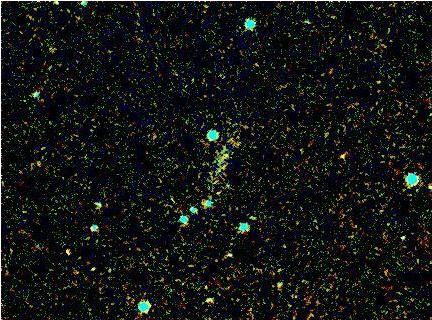star: (50, 238, 80, 268)
